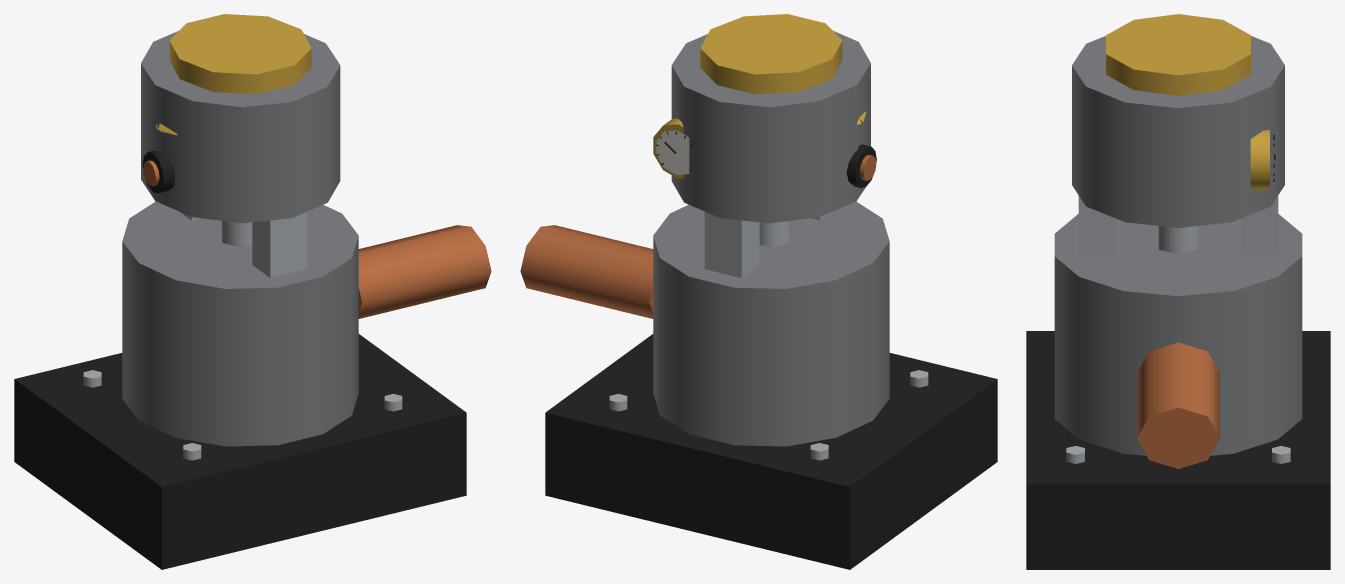
File: parametric-steam-pump-service.glb
The picture shows the model from 3 angles, left to right: view 1: azimuth 30°, elevation 25°; view 2: azimuth 150°, elevation 25°; view 3: azimuth 270°, elevation 25°; orthographic projection. The views are drawn at different scales.
Parts seen in each view (by area): view 1: parametric-steam-pump-service; view 2: parametric-steam-pump-service; view 3: parametric-steam-pump-service.
Boxes of the visible parts, x1,y1,x2,y2 form: parametric-steam-pump-service: [14, 14, 491, 569]; parametric-steam-pump-service: [520, 14, 997, 569]; parametric-steam-pump-service: [1026, 14, 1330, 569].
Size of the model in its own units: 1.2 by 1.3 by 0.8.
